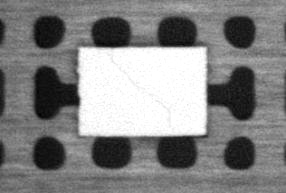DIE_CRACK: (108, 53, 173, 126)
